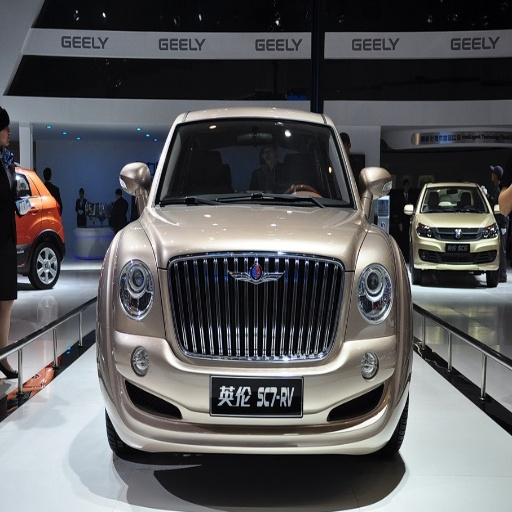front_bumper: (108, 256, 405, 454)
front_right_light: (111, 240, 154, 316)
hood: (145, 206, 370, 270)
